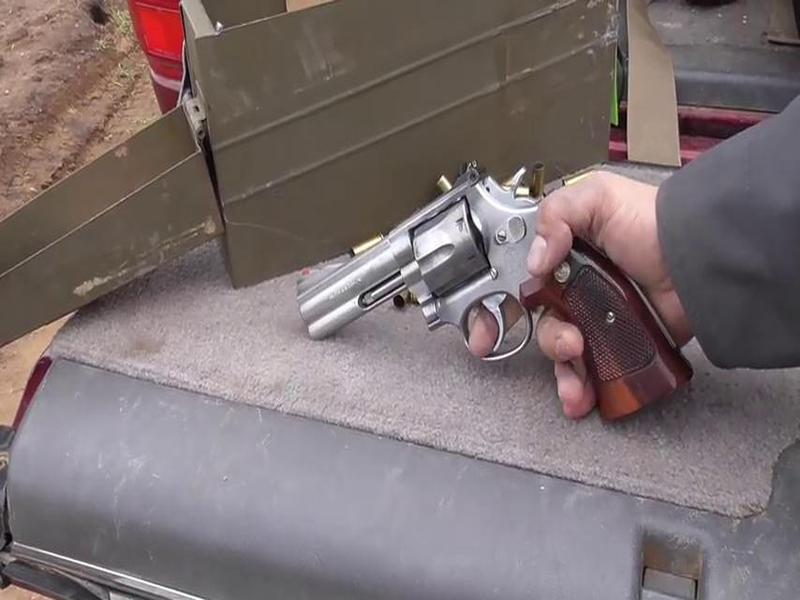Revolver: (292, 164, 624, 406)
